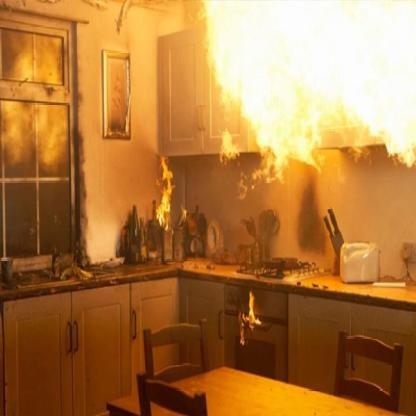fire: (202, 0, 415, 169)
